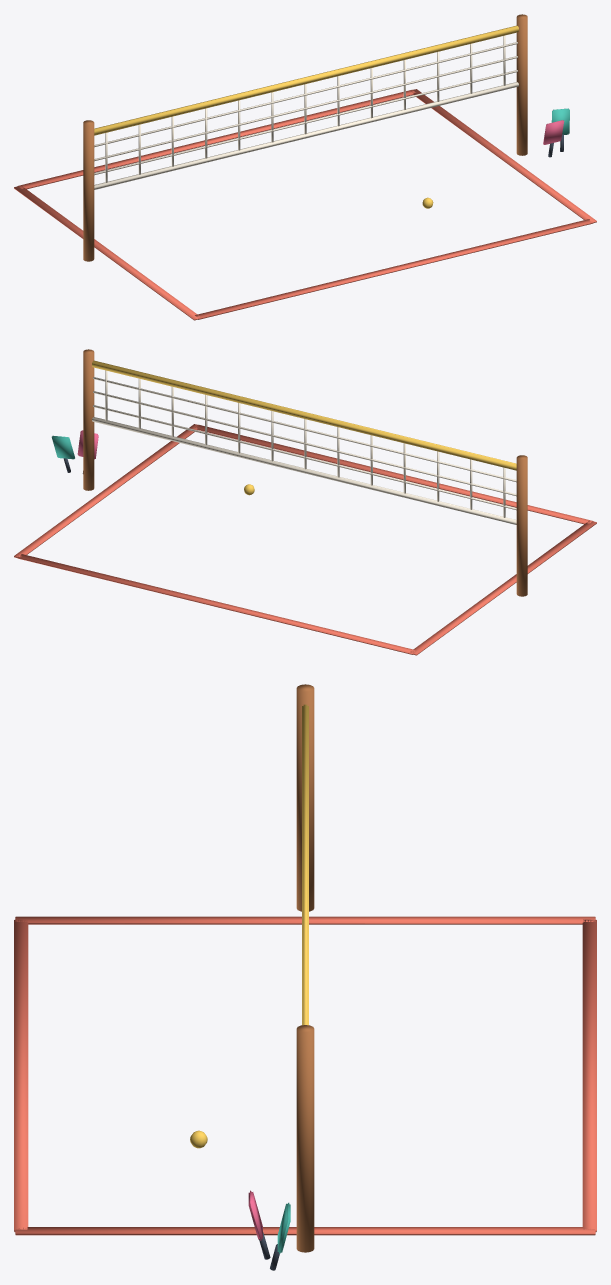
The model's file is BeachTennisCourt.fbx.
3 renders of one model, top to bottom at view 1: azimuth 30°, elevation 25°; view 2: azimuth 150°, elevation 25°; view 3: azimuth 270°, elevation 25°, orthographic. The views are drawn at different scales.
Visible parts, largest first — view 1: BeachTennisCourt; view 2: BeachTennisCourt; view 3: BeachTennisCourt.
Part boxes in pixels (left/top/right/bottom): BeachTennisCourt: left=14, top=14, right=596, bottom=320; BeachTennisCourt: left=14, top=349, right=596, bottom=655; BeachTennisCourt: left=14, top=684, right=596, bottom=1270.
Bounding box in the file's own units: 7.54 × 2.05 × 4.92.
